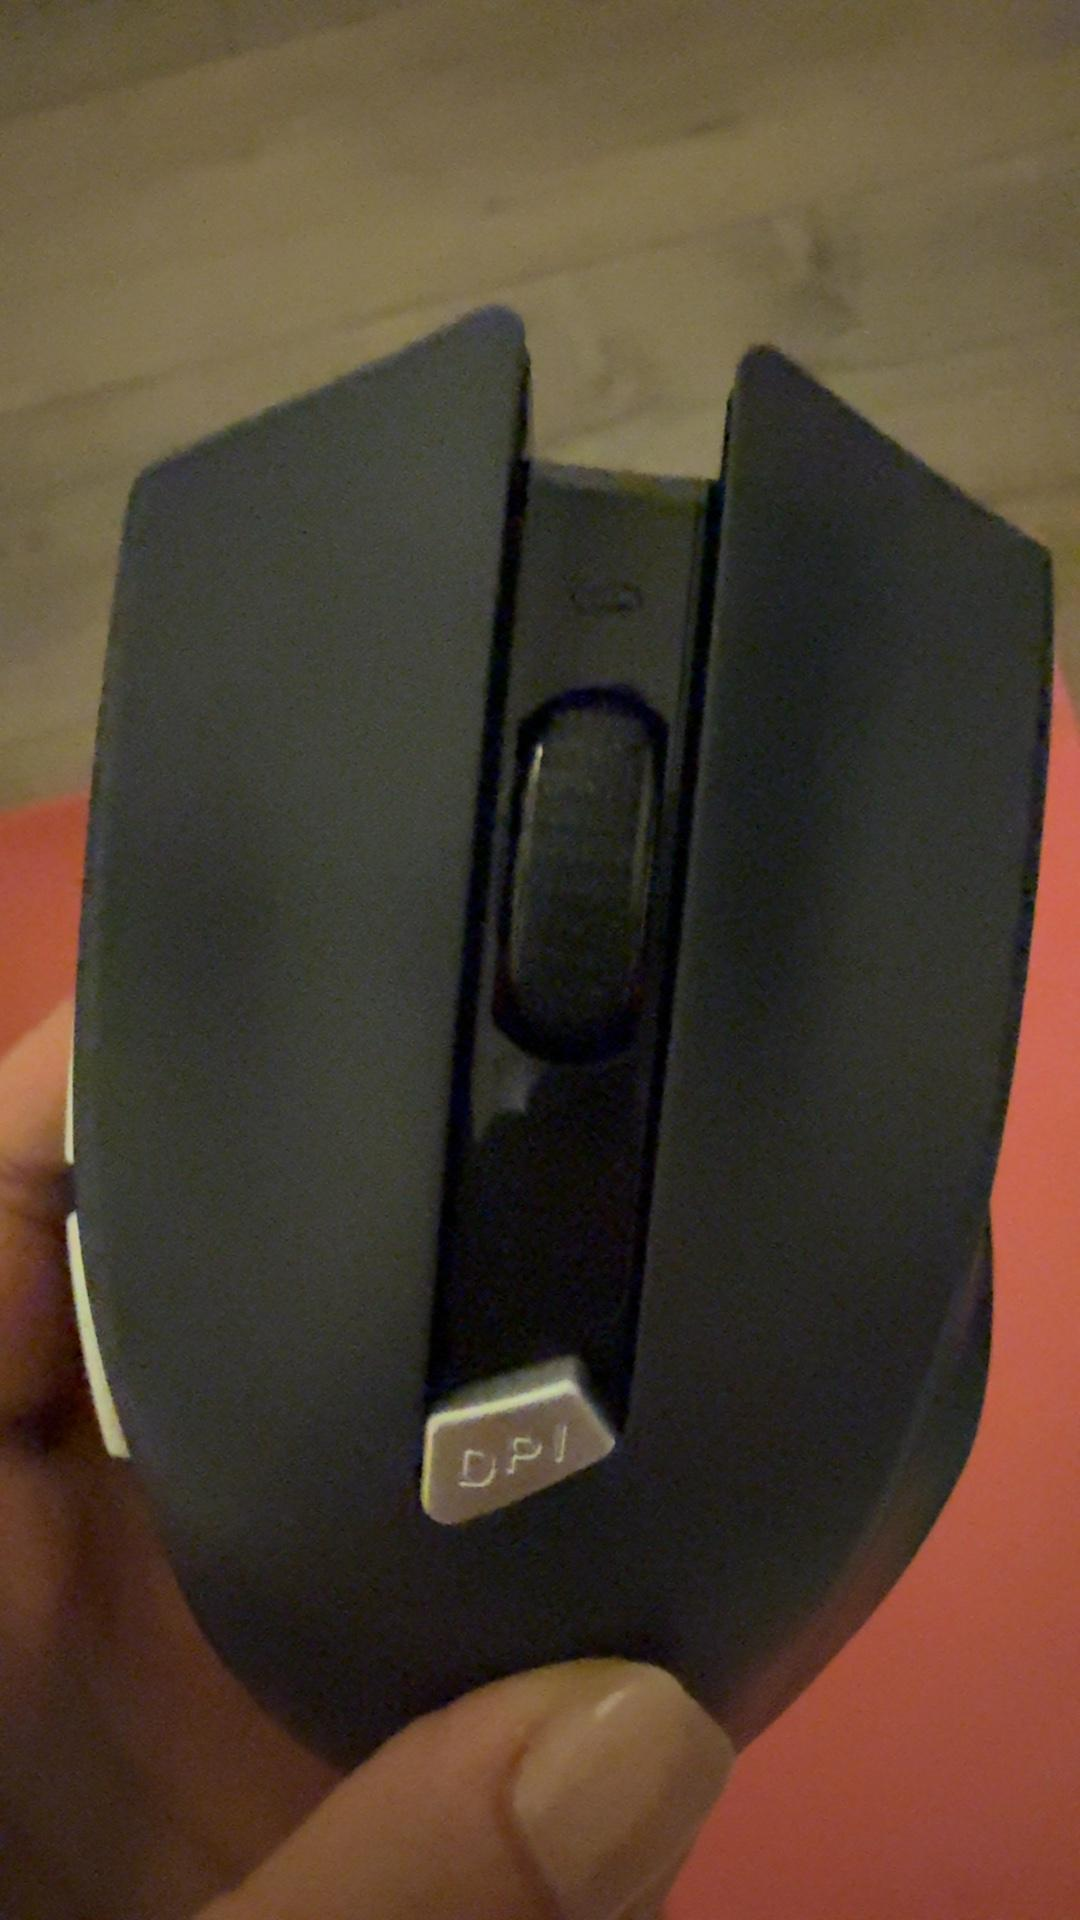Aulaf75: (55, 285, 1075, 1780)
